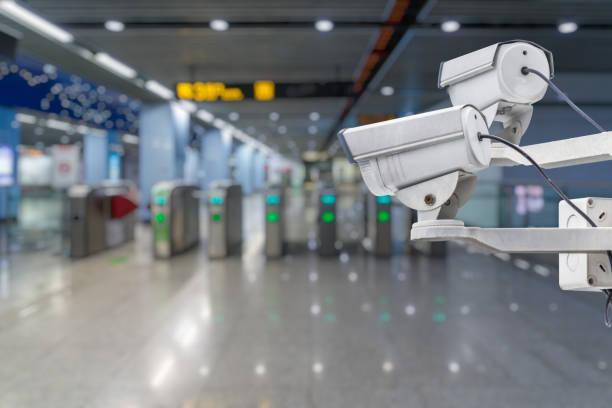camera: (318, 94, 492, 225), (416, 17, 568, 129)
